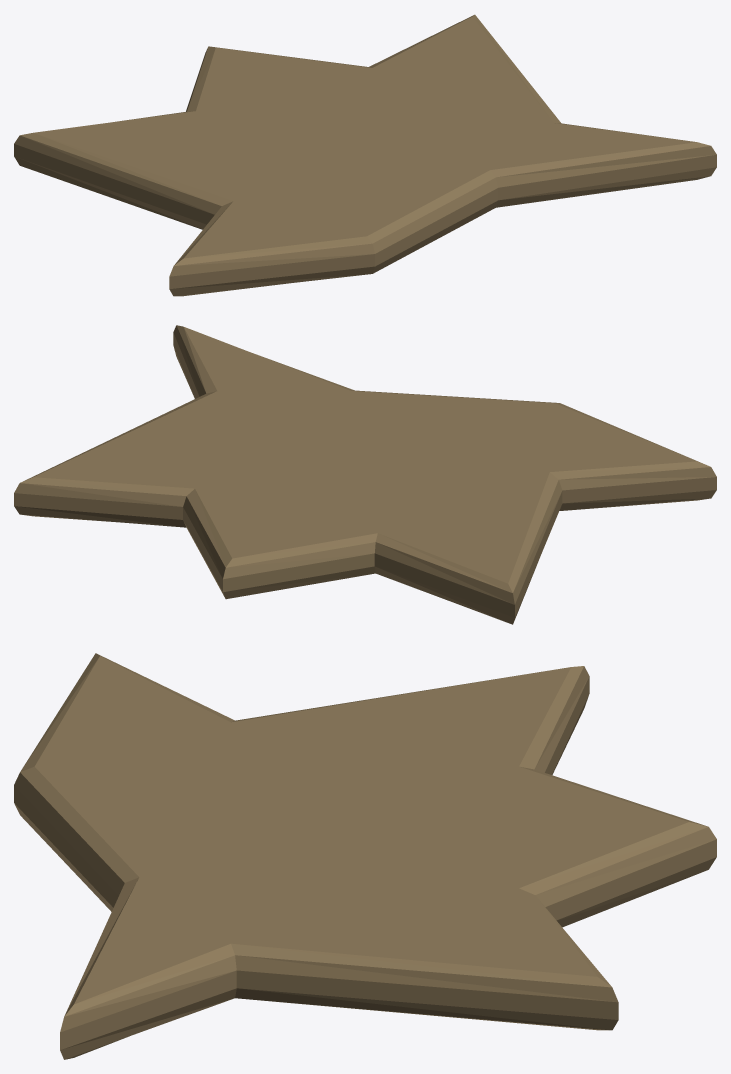
Rendered from hide-loot.glb.
3 views of the same model, one above another, from view 1: azimuth 30°, elevation 25°; view 2: azimuth 150°, elevation 25°; view 3: azimuth 270°, elevation 25° (orthographic). The views are drawn at different scales.
Size of the model in its own units: 0.6691 by 0.045 by 0.5369.
